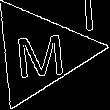M_N: (12, 25, 68, 79)
